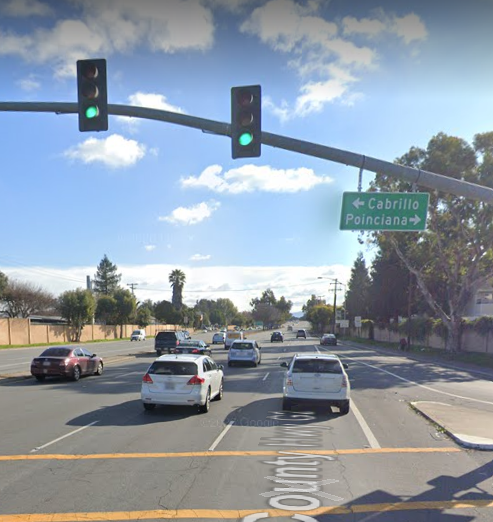green_light: (75, 59, 107, 130), (234, 87, 261, 156)
